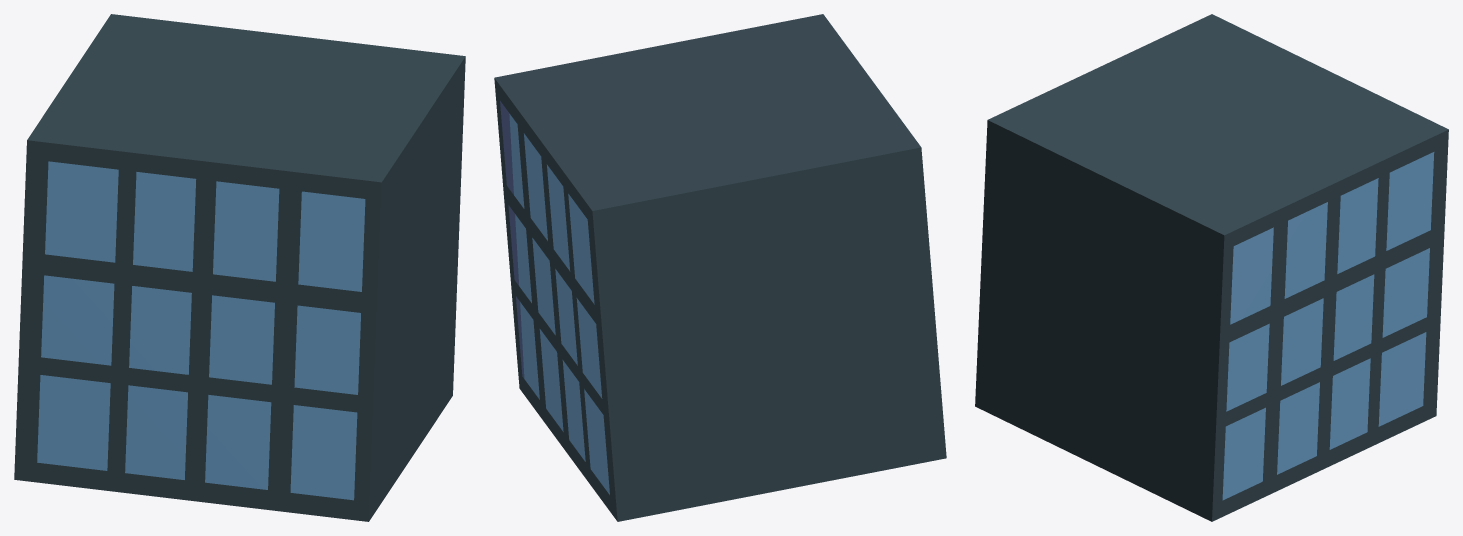
Rendered from Pawn.glb.
3 renders of one model, left to right at view 1: azimuth 30°, elevation 25°; view 2: azimuth 150°, elevation 25°; view 3: azimuth 270°, elevation 25°, orthographic. The views are drawn at different scales.
Parts seen in each view (by area): view 1: node_MeshObject543310848-PolyPaper21, node_MeshObject1115389952-PolyGlass24; view 2: node_MeshObject543310848-PolyPaper21, node_MeshObject1115389952-PolyGlass24; view 3: node_MeshObject543310848-PolyPaper21, node_MeshObject1115389952-PolyGlass24.
Boxes of the visible parts, x1,y1,x2,y2 form: node_MeshObject543310848-PolyPaper21: [14, 14, 465, 521]; node_MeshObject1115389952-PolyGlass24: [37, 161, 364, 499]; node_MeshObject543310848-PolyPaper21: [494, 14, 946, 521]; node_MeshObject1115389952-PolyGlass24: [500, 101, 609, 494]; node_MeshObject543310848-PolyPaper21: [975, 14, 1448, 521]; node_MeshObject1115389952-PolyGlass24: [1223, 152, 1433, 499].
Bounding box in the file's own units: 0.2063 × 0.1522 × 0.2031.
